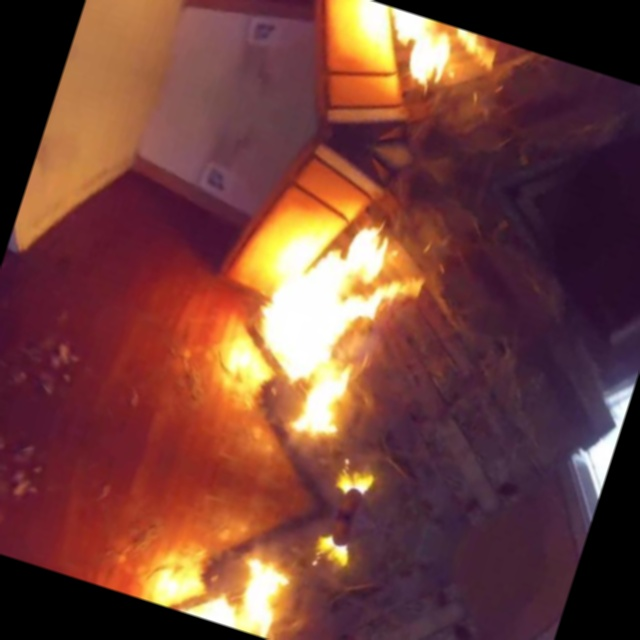fire: (184, 160, 466, 540)
